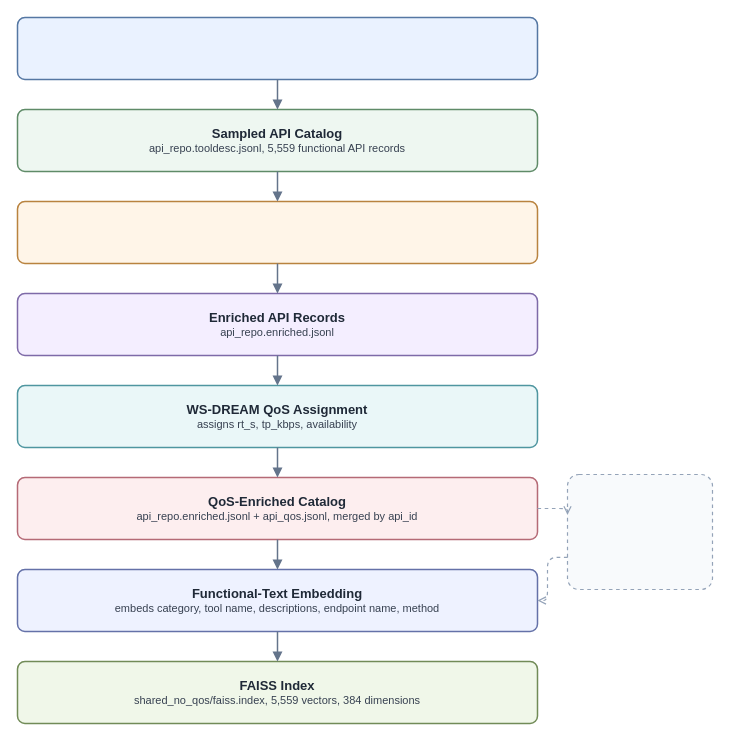
Image size: 731x742. Some labels were removed from this diagram. Each missing label, with the box of its shape:
QoS values are excluded from retrieval embeddings.: (566, 473, 713, 590)
ToolBench API Metadata full ToolBench endpoint metadata: (16, 16, 538, 80)
ToolBench Enrichment adds tool name, description, method, URL, parameters: (16, 200, 538, 264)
